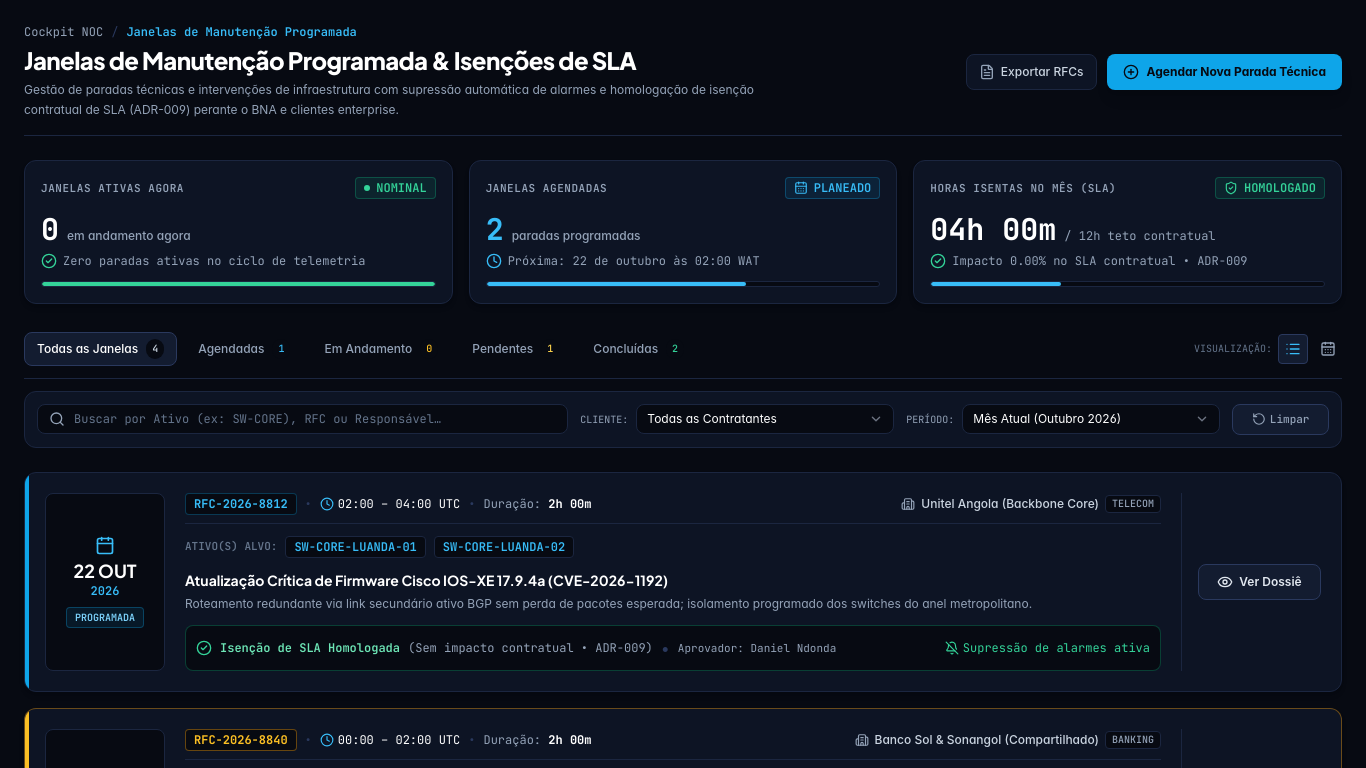
Test case: Gestão de Janelas de Manutenção & SLA (Issue #218) › Painel de Janelas de Manutenção (/maintenance) › deve exportar dossie de RFCs em CSV e abrir dossie tecnico
Expected: the text "RFC-2026-8812" is shown, [185,492,297,514]
Step 1. Click the button "Exportar RFCs" → x=1031, y=72, box [966,54,1097,90]
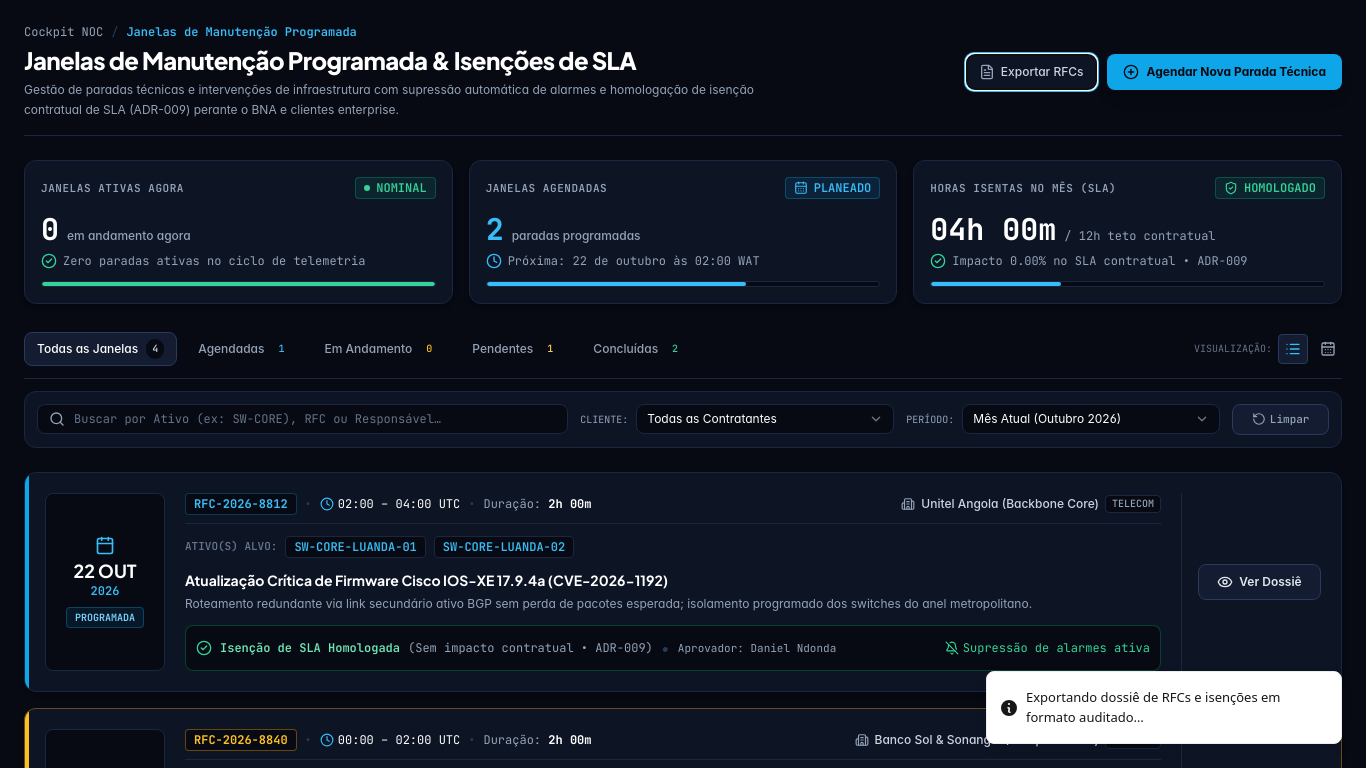
Step 2. Click the button "Ver Dossiê" → x=1260, y=582, box [1198,564,1321,600]
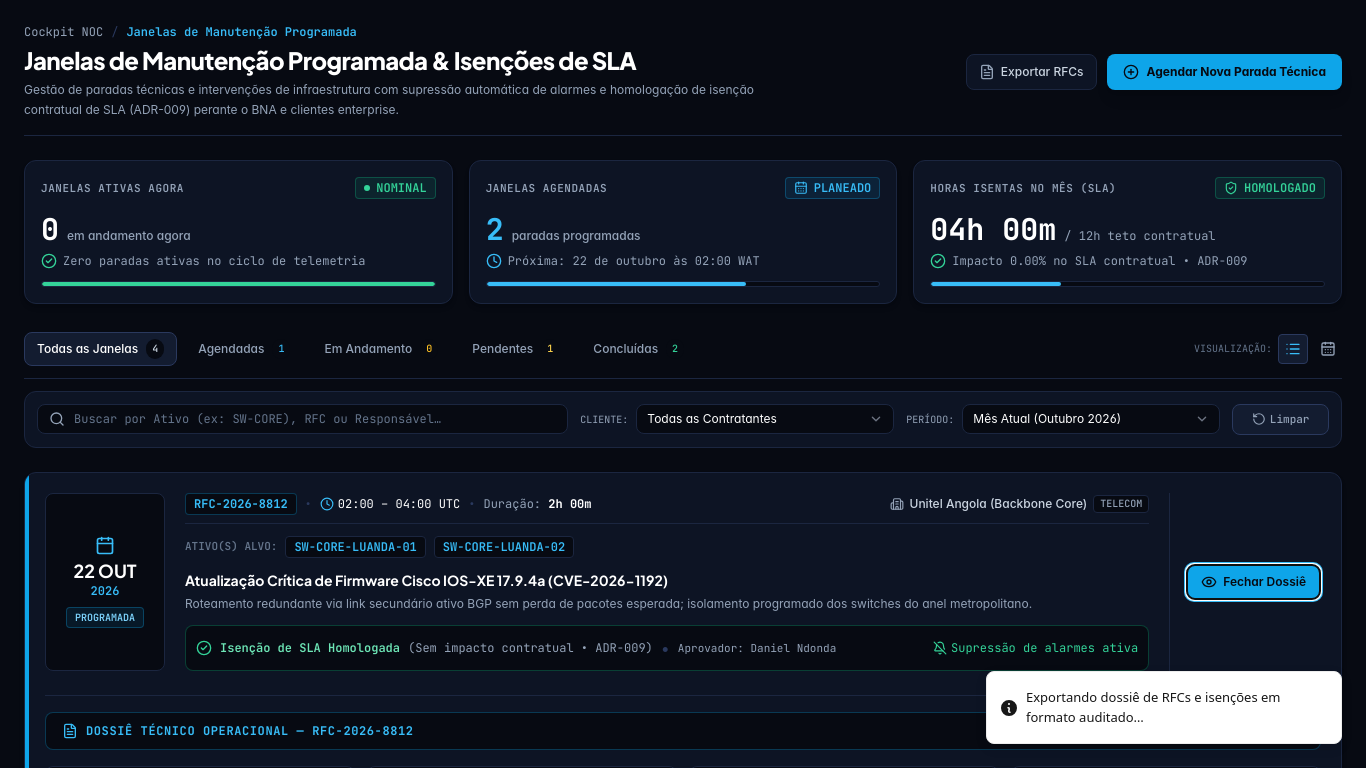
Expected: the text "DOSSIÊ TÉCNICO OPERACIONAL — RFC-2026-8812" is shown, [86,723,414,739]
